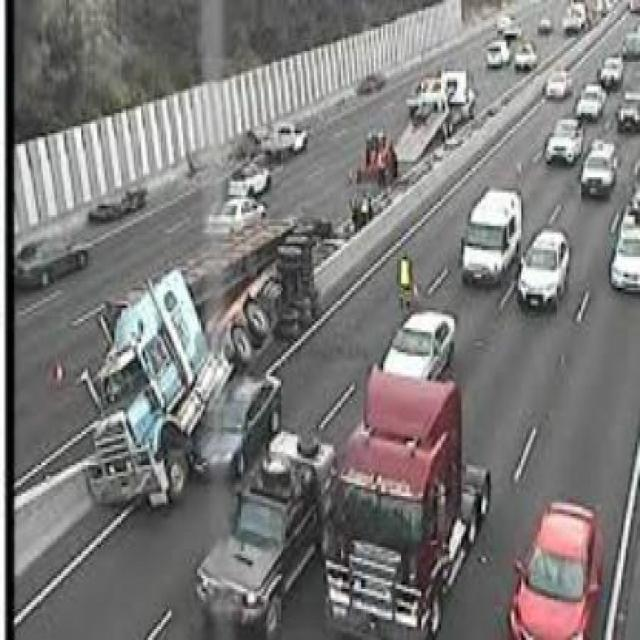accident: (77, 206, 334, 523)
